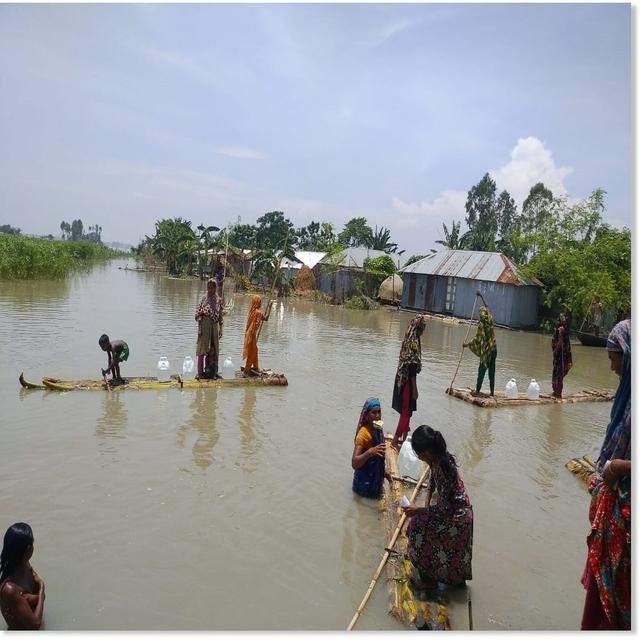Person-RiskLevel3: (399, 422, 484, 597), (383, 314, 433, 445), (345, 392, 395, 503), (188, 275, 235, 387), (462, 286, 505, 400), (241, 286, 285, 384), (544, 302, 579, 401), (93, 325, 134, 385)
